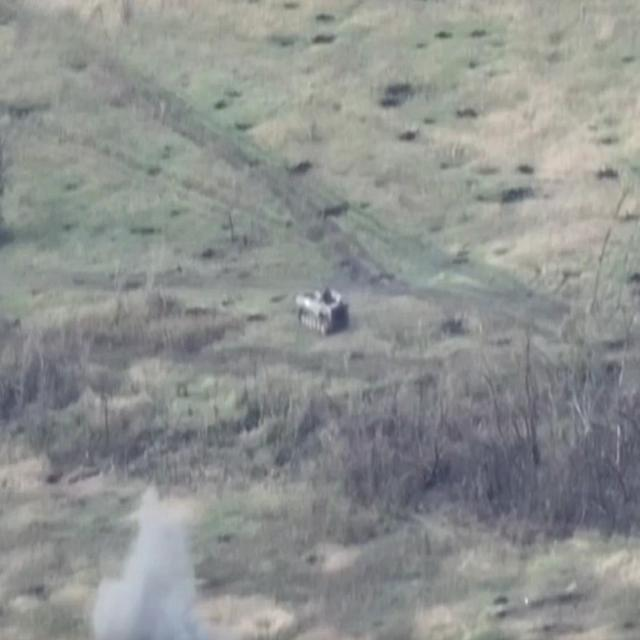AIFV: (295, 285, 358, 339)
